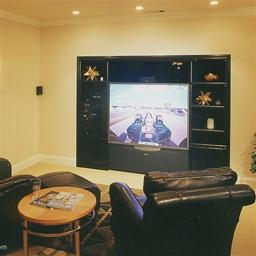Electrodomestico: (109, 82, 187, 171)
